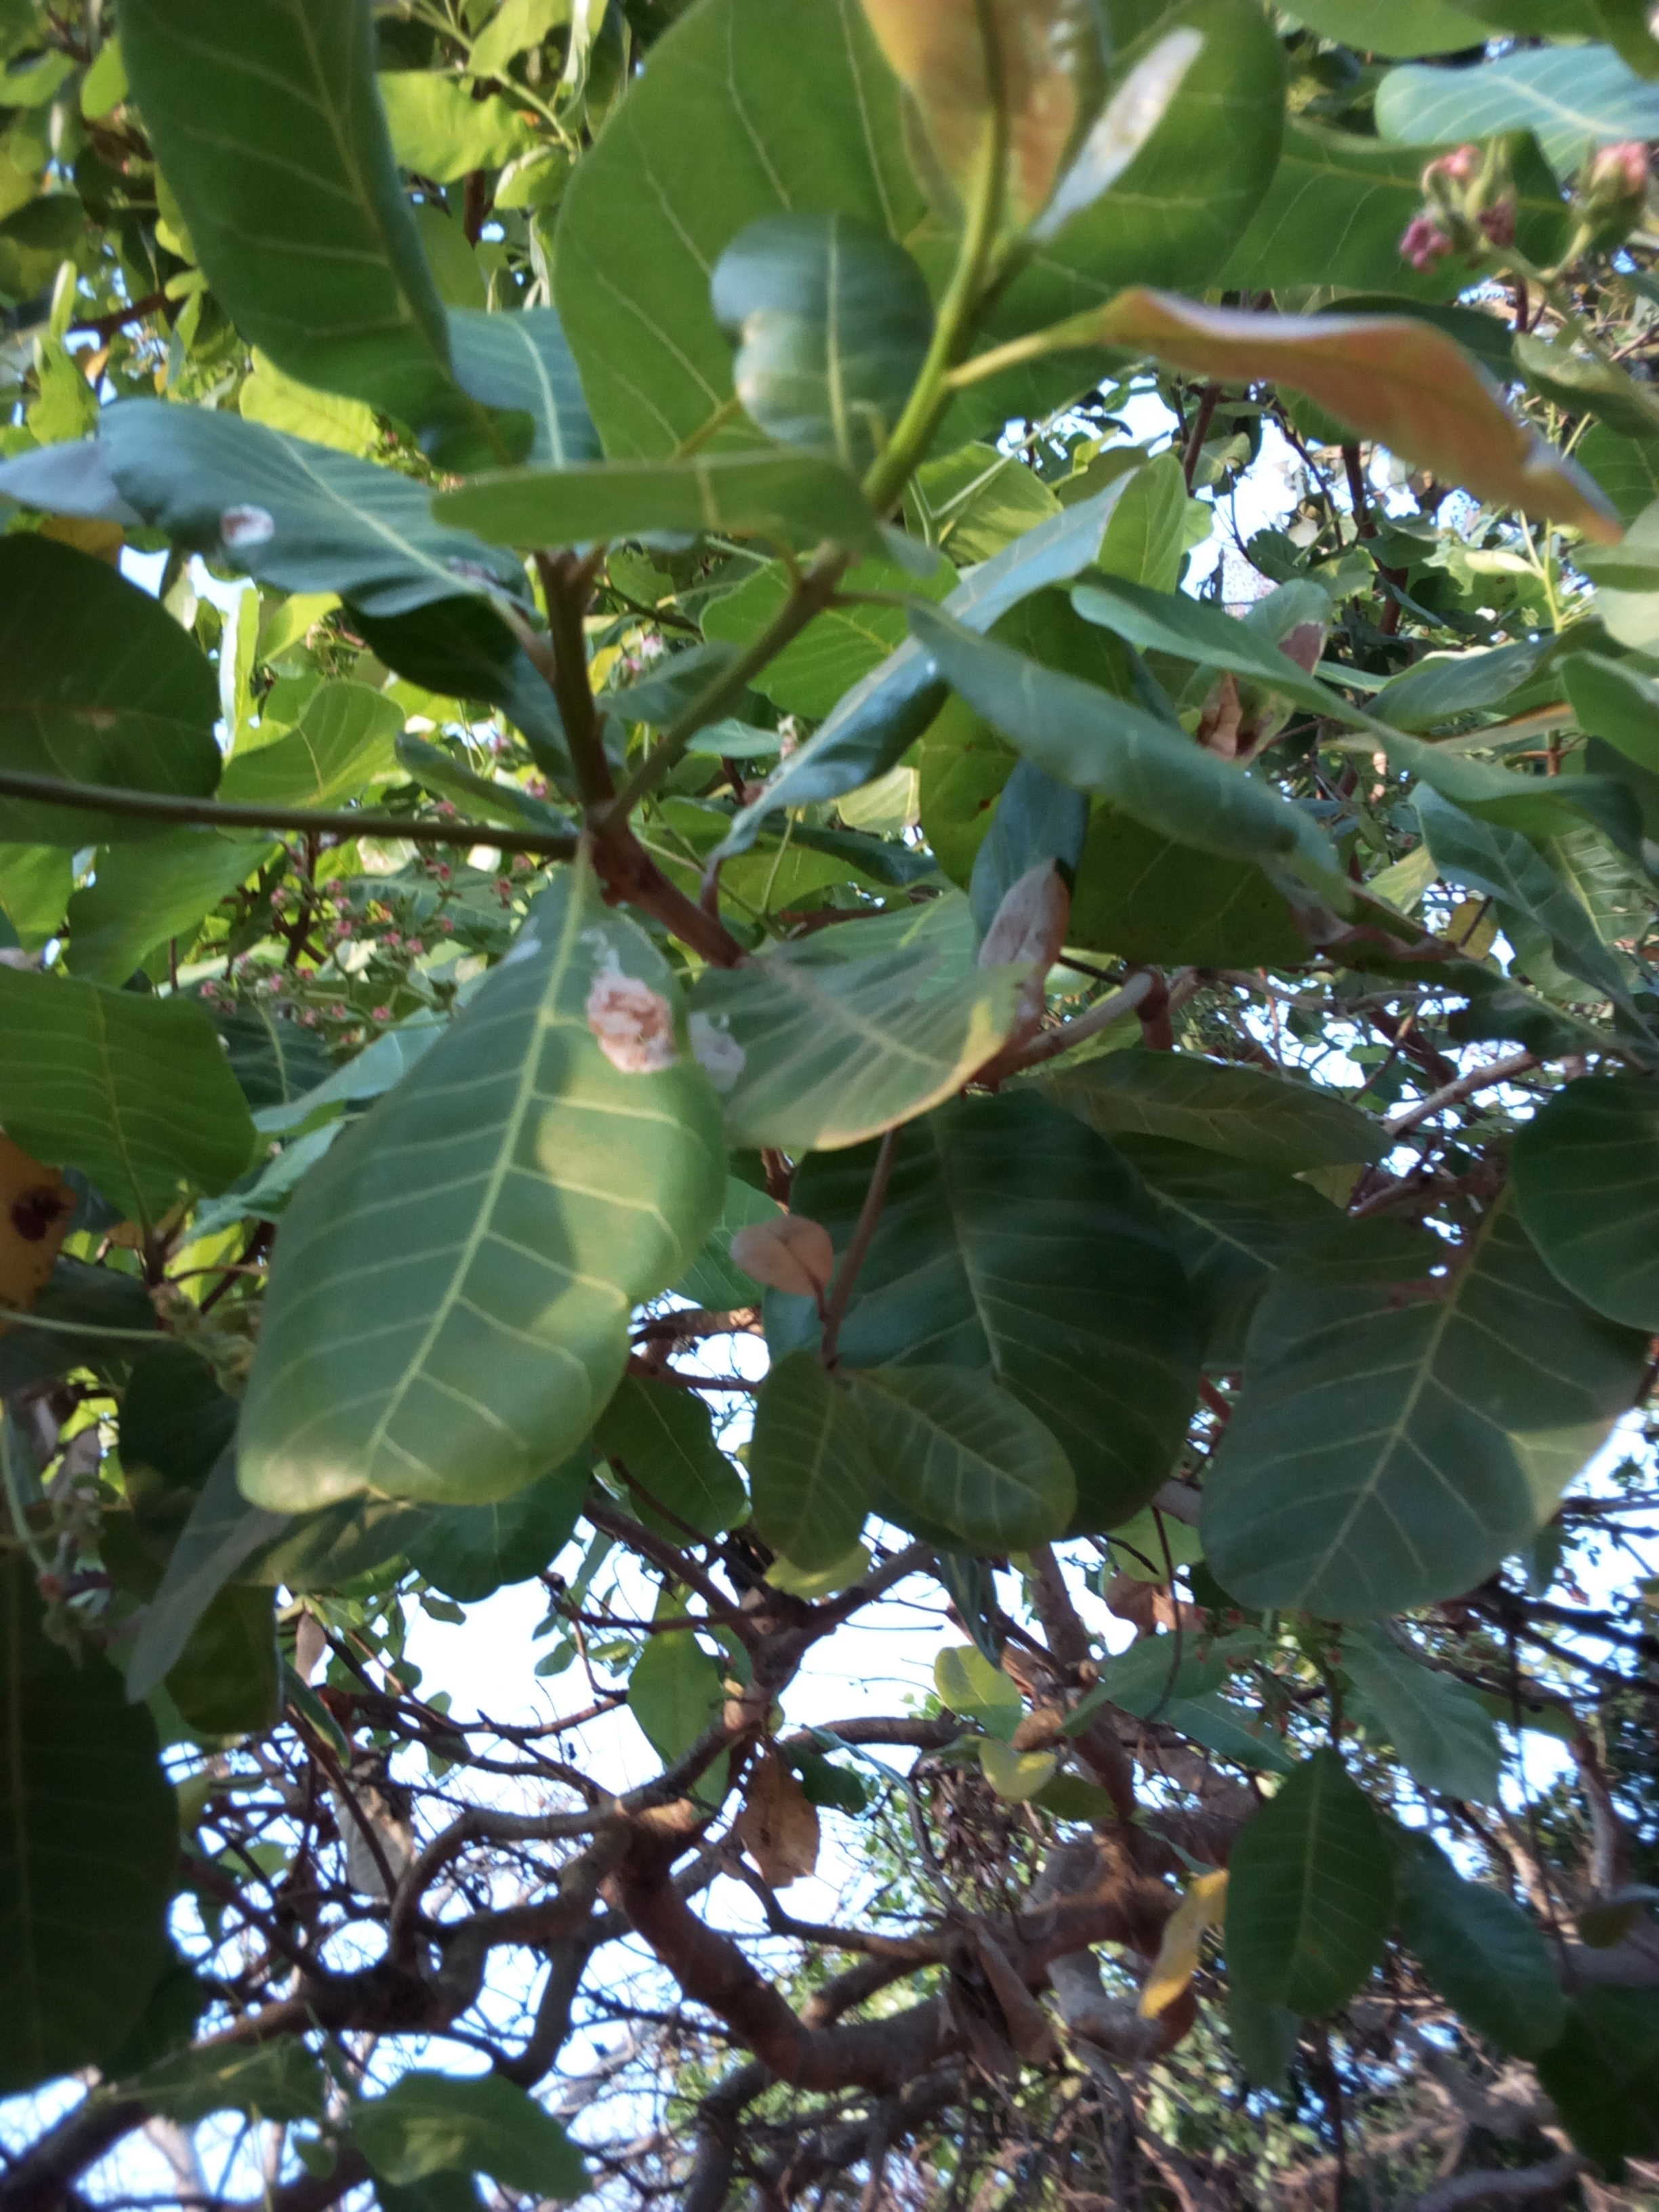Dysdercus wolkerii: (199, 848, 779, 1561)
